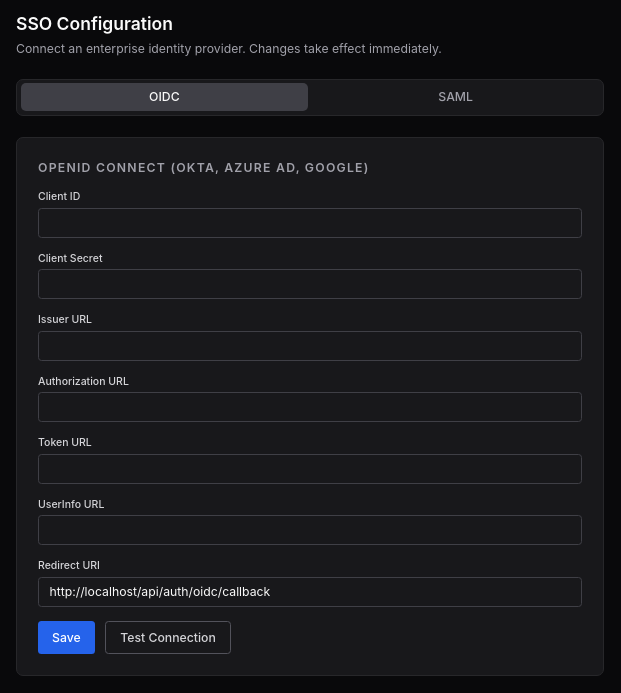
SSOSettingsPage › switches back to OIDC when OIDC tab is re-clicked
Click the button "SAML".
click(456, 97)  # box [312,83,600,111]
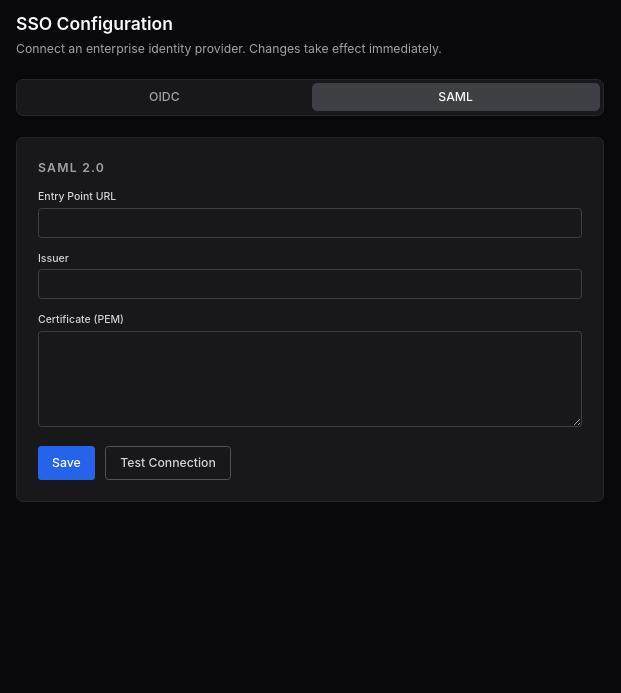
Click the button "OIDC".
click(164, 97)  # box [20,83,308,111]
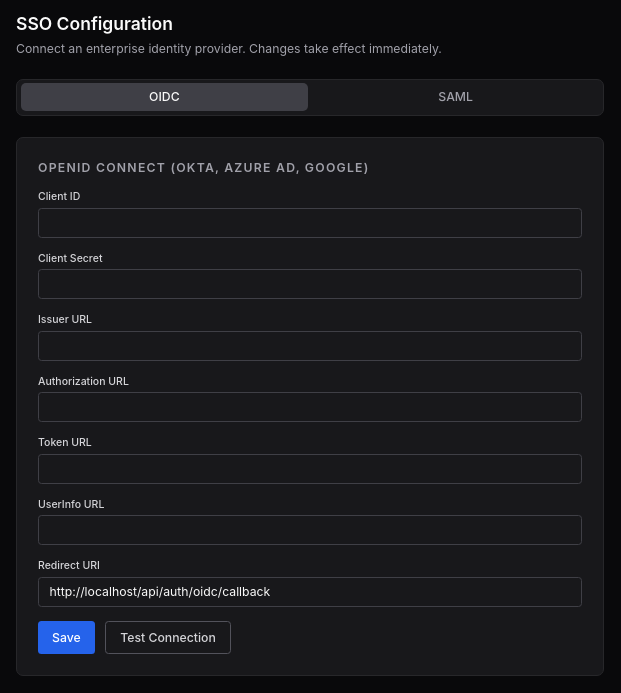
Now the heading "OpenID Connect (Okta, Azure AD, Google)" is shown, box [38,160,370,174]
Now the text "Entry Point URL" is gone
